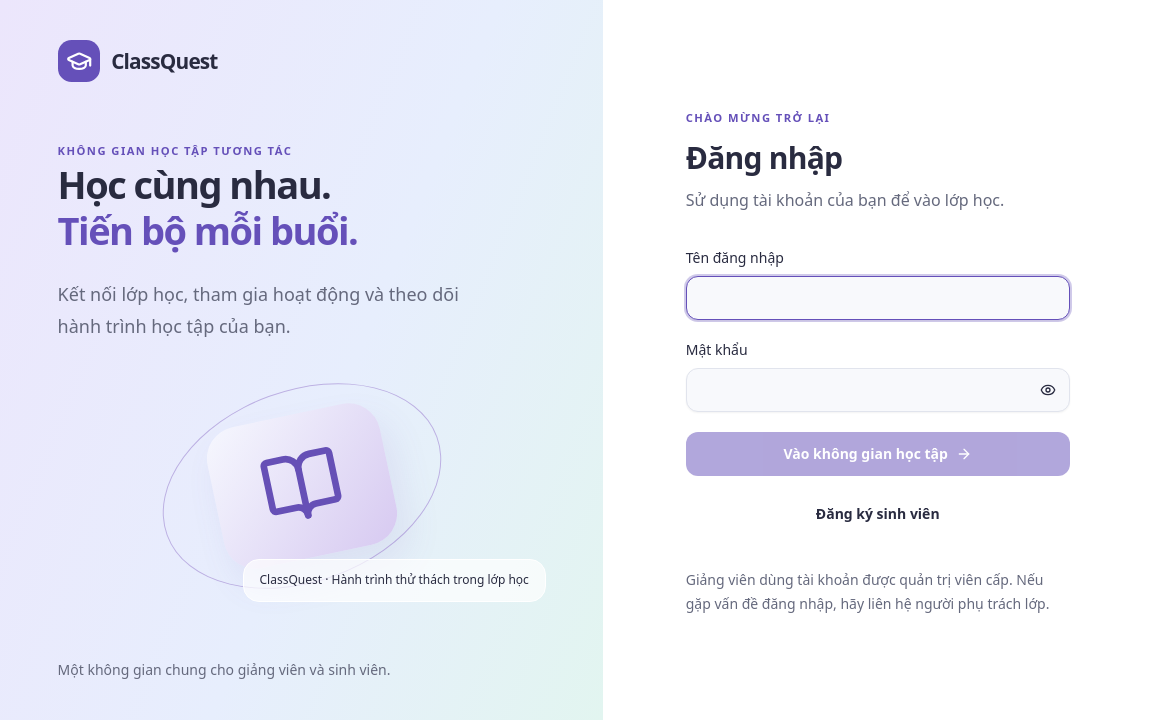
Test: validates credentials, toggles visibility and exposes server errors
Check: the button "Vào không gian học tập" is disabled, box [686,432,1070,476]
Type "teacher" into the field labelled "Tên đăng nhập".
click(878, 298); type("teacher")  # box [686,276,1070,320]
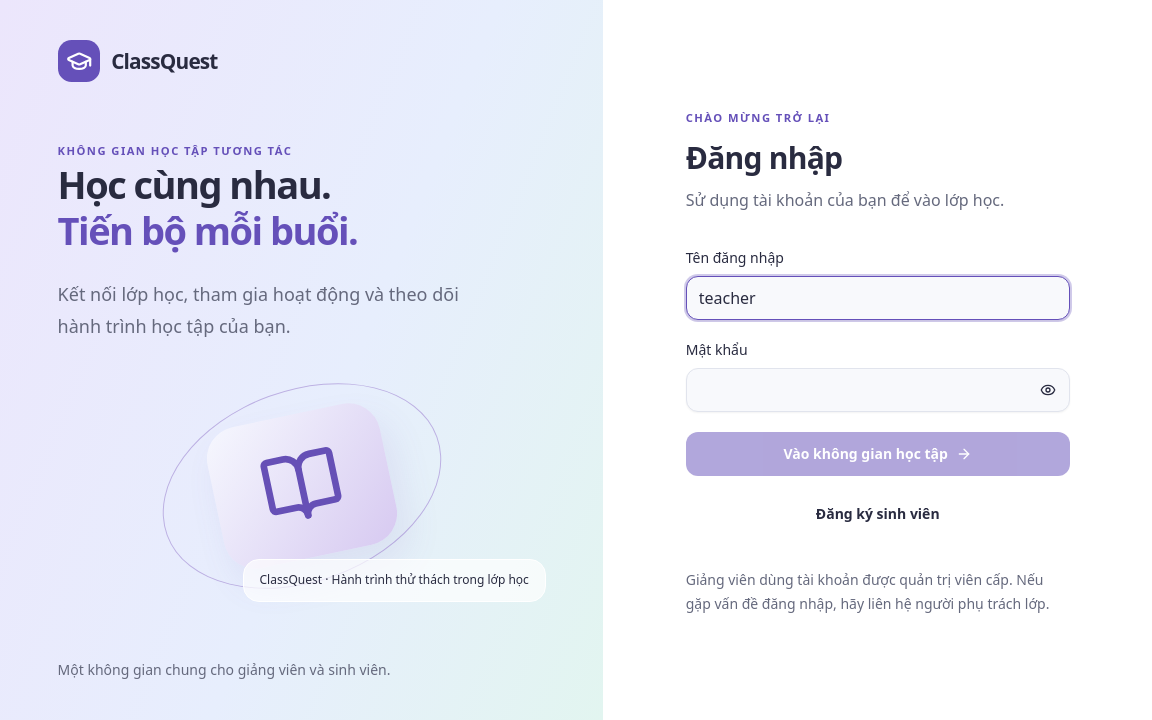
Type "incorrect" into the password field labelled "Mật khẩu".
click(878, 390); type("incorrect")  # box [686,368,1070,412]
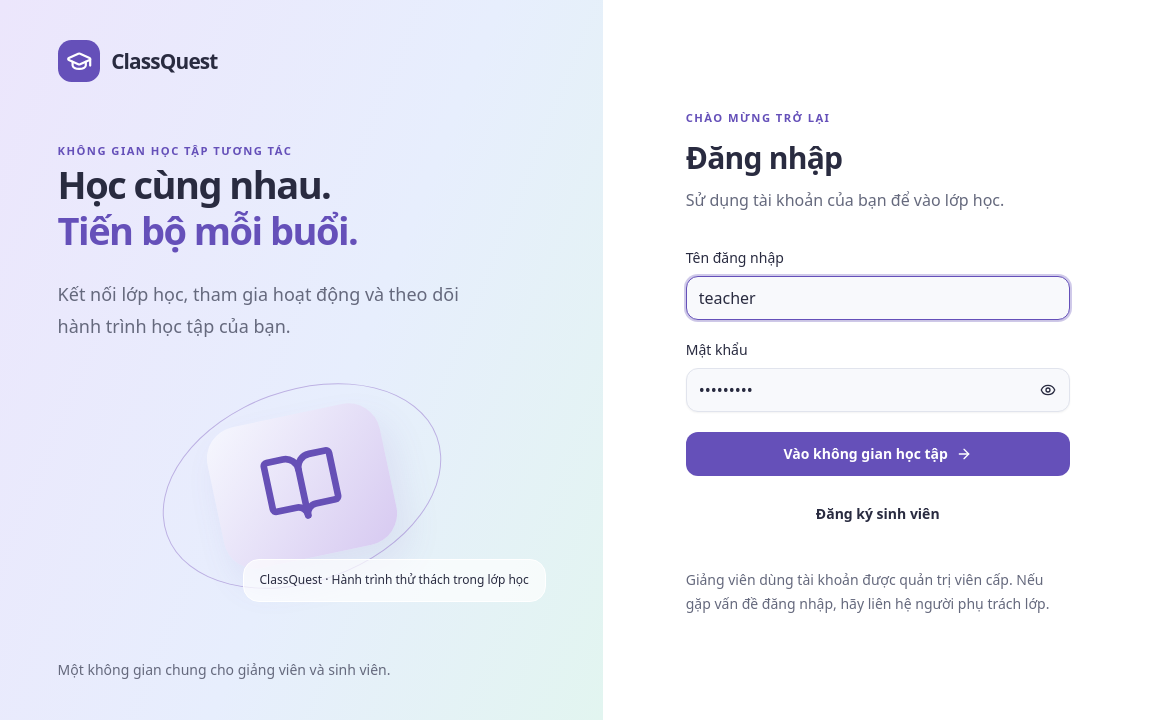
Click the button named "Hiện mật khẩu".
click(1048, 390)  # box [1026,368,1070,412]
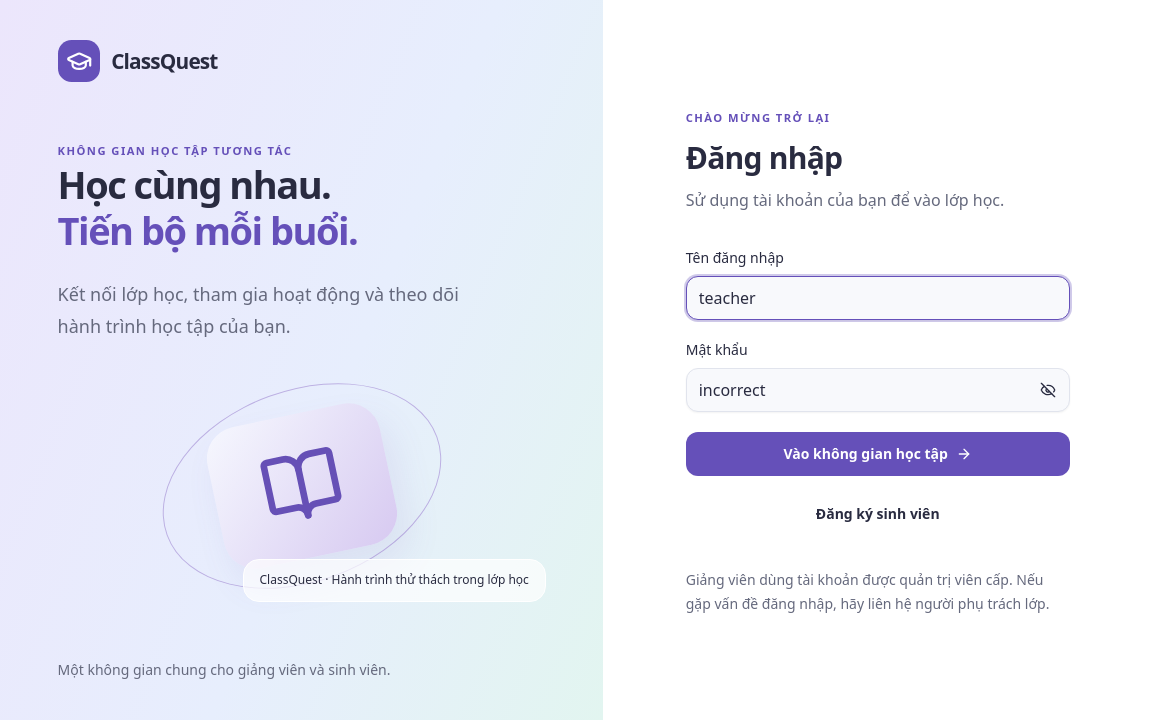
Click the button "Vào không gian học tập".
click(878, 454)  # box [686,432,1070,476]
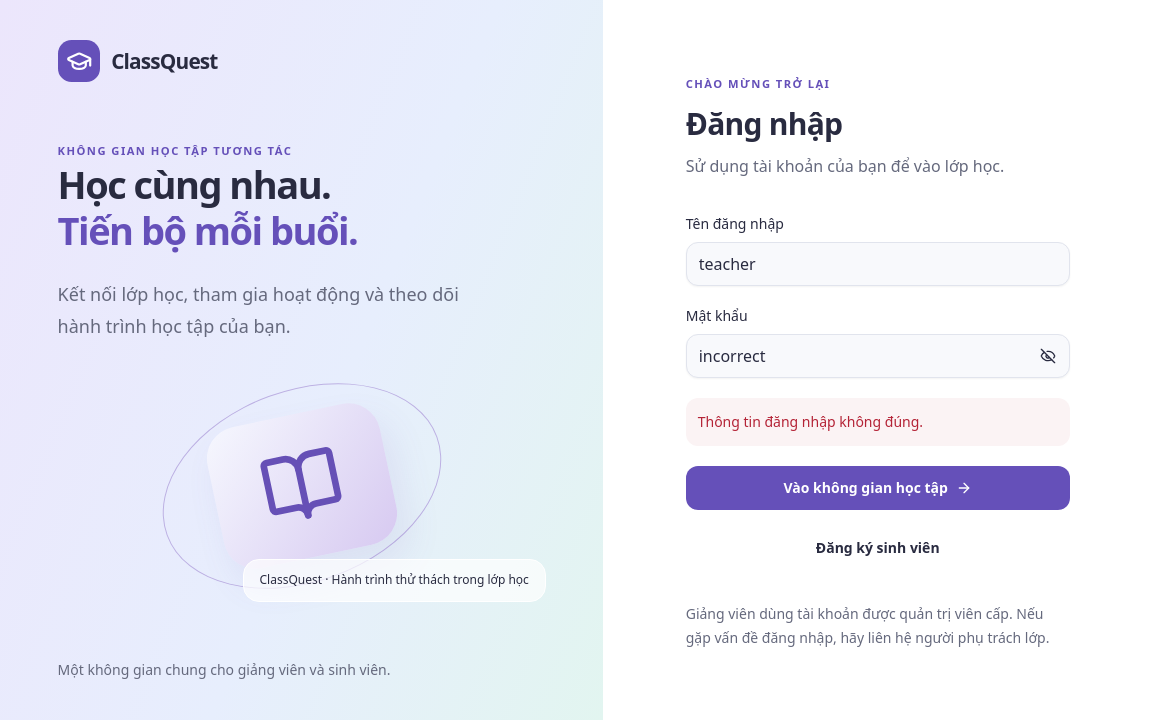
Check: the button "Vào không gian học tập" is enabled, box [686,466,1070,510]
Check: the message shows "không đúng", box [698,412,923,431]
